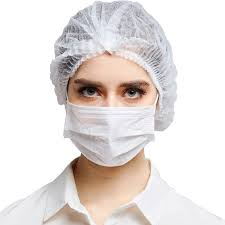with_mask_and_cap: (56, 3, 168, 168)
